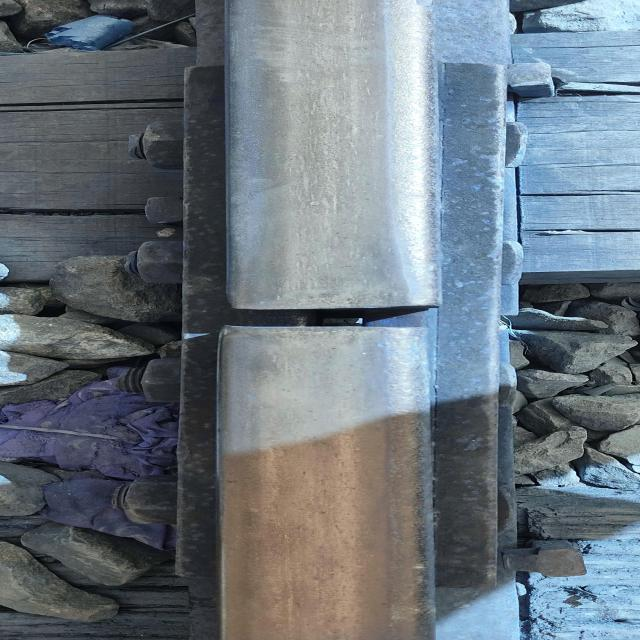Good Joint: (172, 56, 538, 585)
